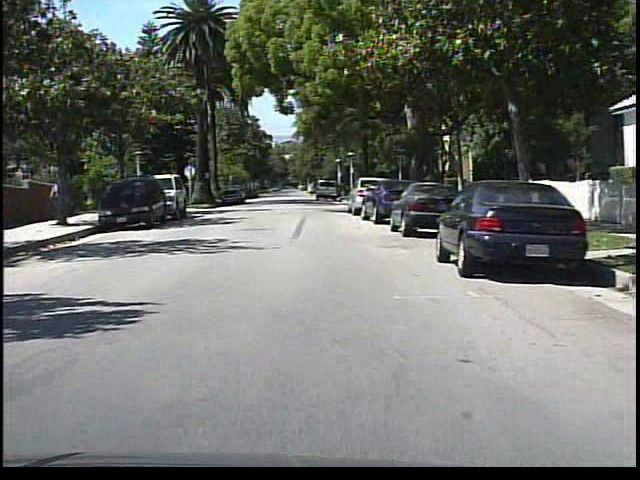person: (48, 176, 67, 224)
